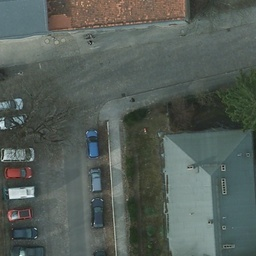car: (8, 241, 46, 256), (1, 147, 35, 162), (90, 198, 104, 231), (7, 183, 35, 199), (85, 129, 98, 159), (5, 166, 31, 181), (6, 227, 38, 239), (87, 166, 101, 193), (1, 114, 27, 127), (8, 207, 33, 220), (1, 98, 24, 110)
